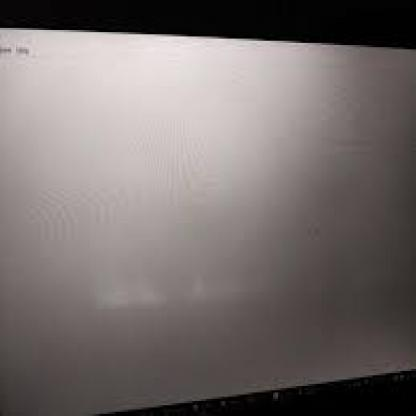spot: (96, 274, 167, 322), (184, 266, 235, 313)
